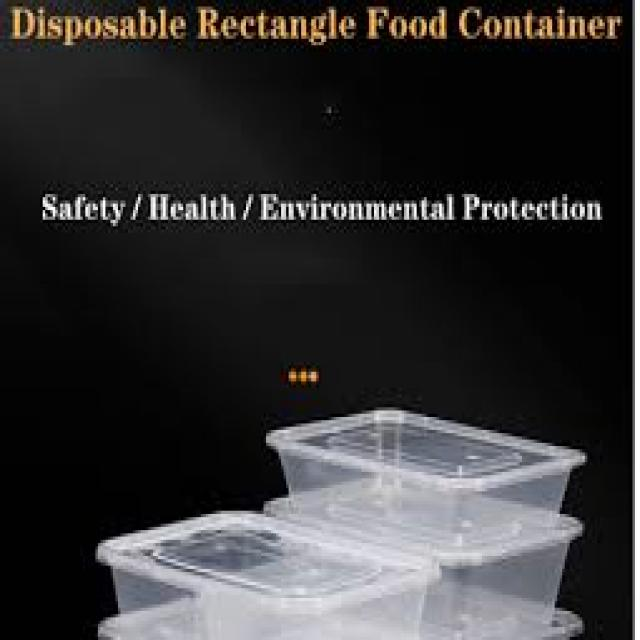disposable: (274, 384, 576, 554)
